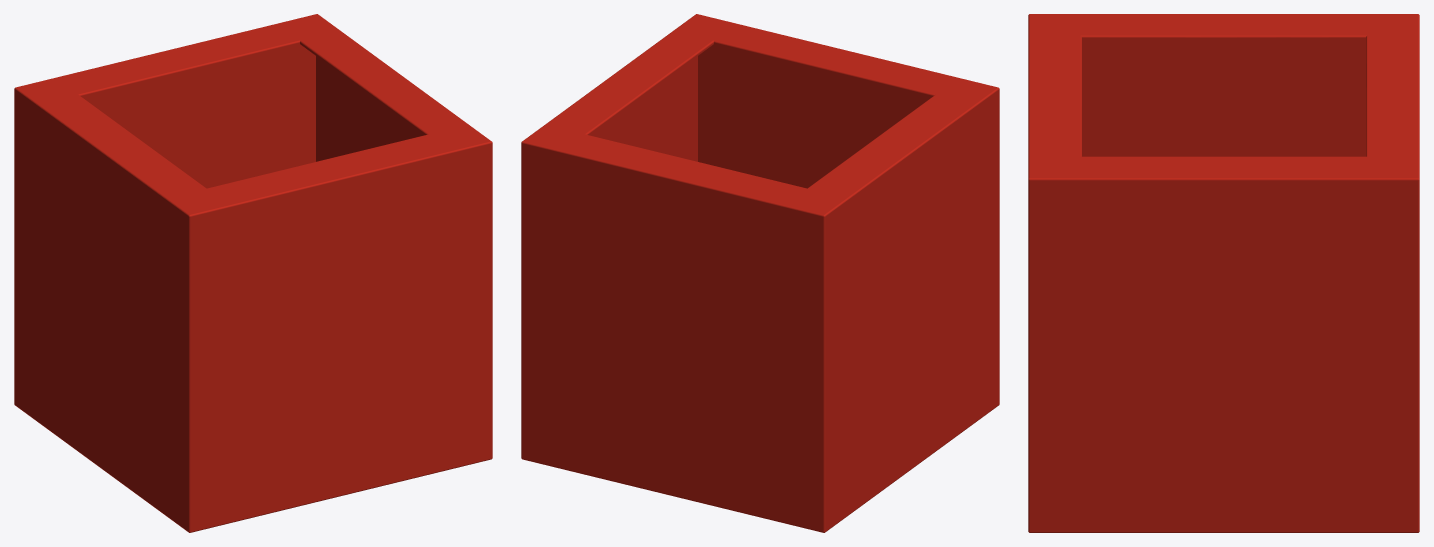
File: red_box.dae
3 views of the same model, side by side, from view 1: azimuth 30°, elevation 25°; view 2: azimuth 150°, elevation 25°; view 3: azimuth 270°, elevation 25° (orthographic). The views are drawn at different scales.
Parts seen in each view (by area): view 1: red box; view 2: red box; view 3: red box.
Part boxes in pixels (x1,y1,x2,y2): red box: (14, 14, 492, 532); red box: (521, 14, 999, 532); red box: (1028, 14, 1419, 532).
Size of the model in its own units: 0.207 by 0.207 by 0.207.
